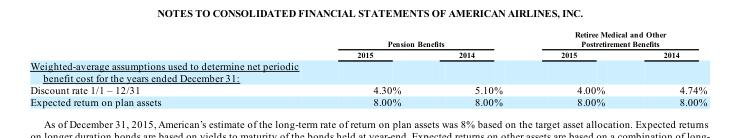table: (29, 29, 706, 107)
table column: (29, 29, 258, 107), (258, 29, 429, 107), (429, 29, 531, 107), (531, 29, 633, 107), (633, 29, 706, 107)
table column header: (29, 29, 706, 59)
table projected row header: (29, 59, 706, 83)
table row: (29, 59, 706, 83), (29, 29, 706, 48), (29, 83, 706, 95), (29, 95, 706, 107), (29, 48, 706, 59)
table spanning cell: (258, 29, 531, 48), (531, 29, 706, 48)
